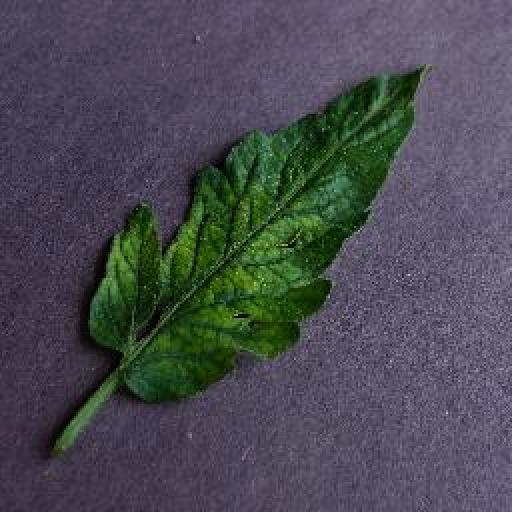Mosaic Virus: (90, 60, 424, 406)
